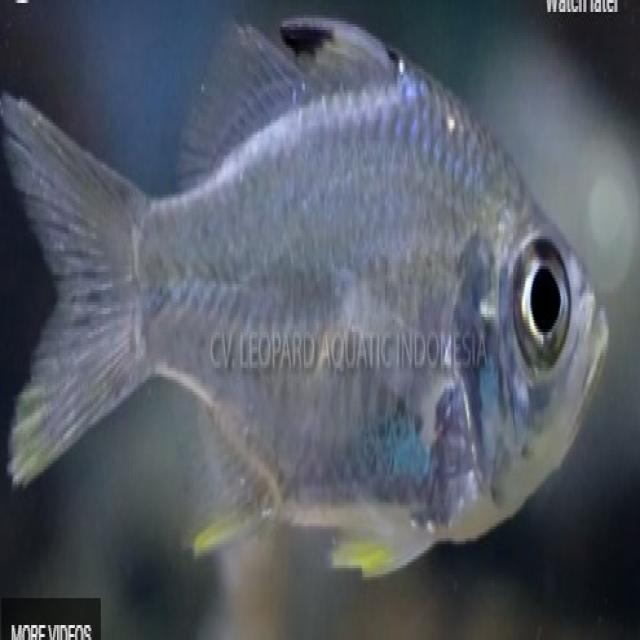Glass-Perchlet: (1, 12, 617, 590)
